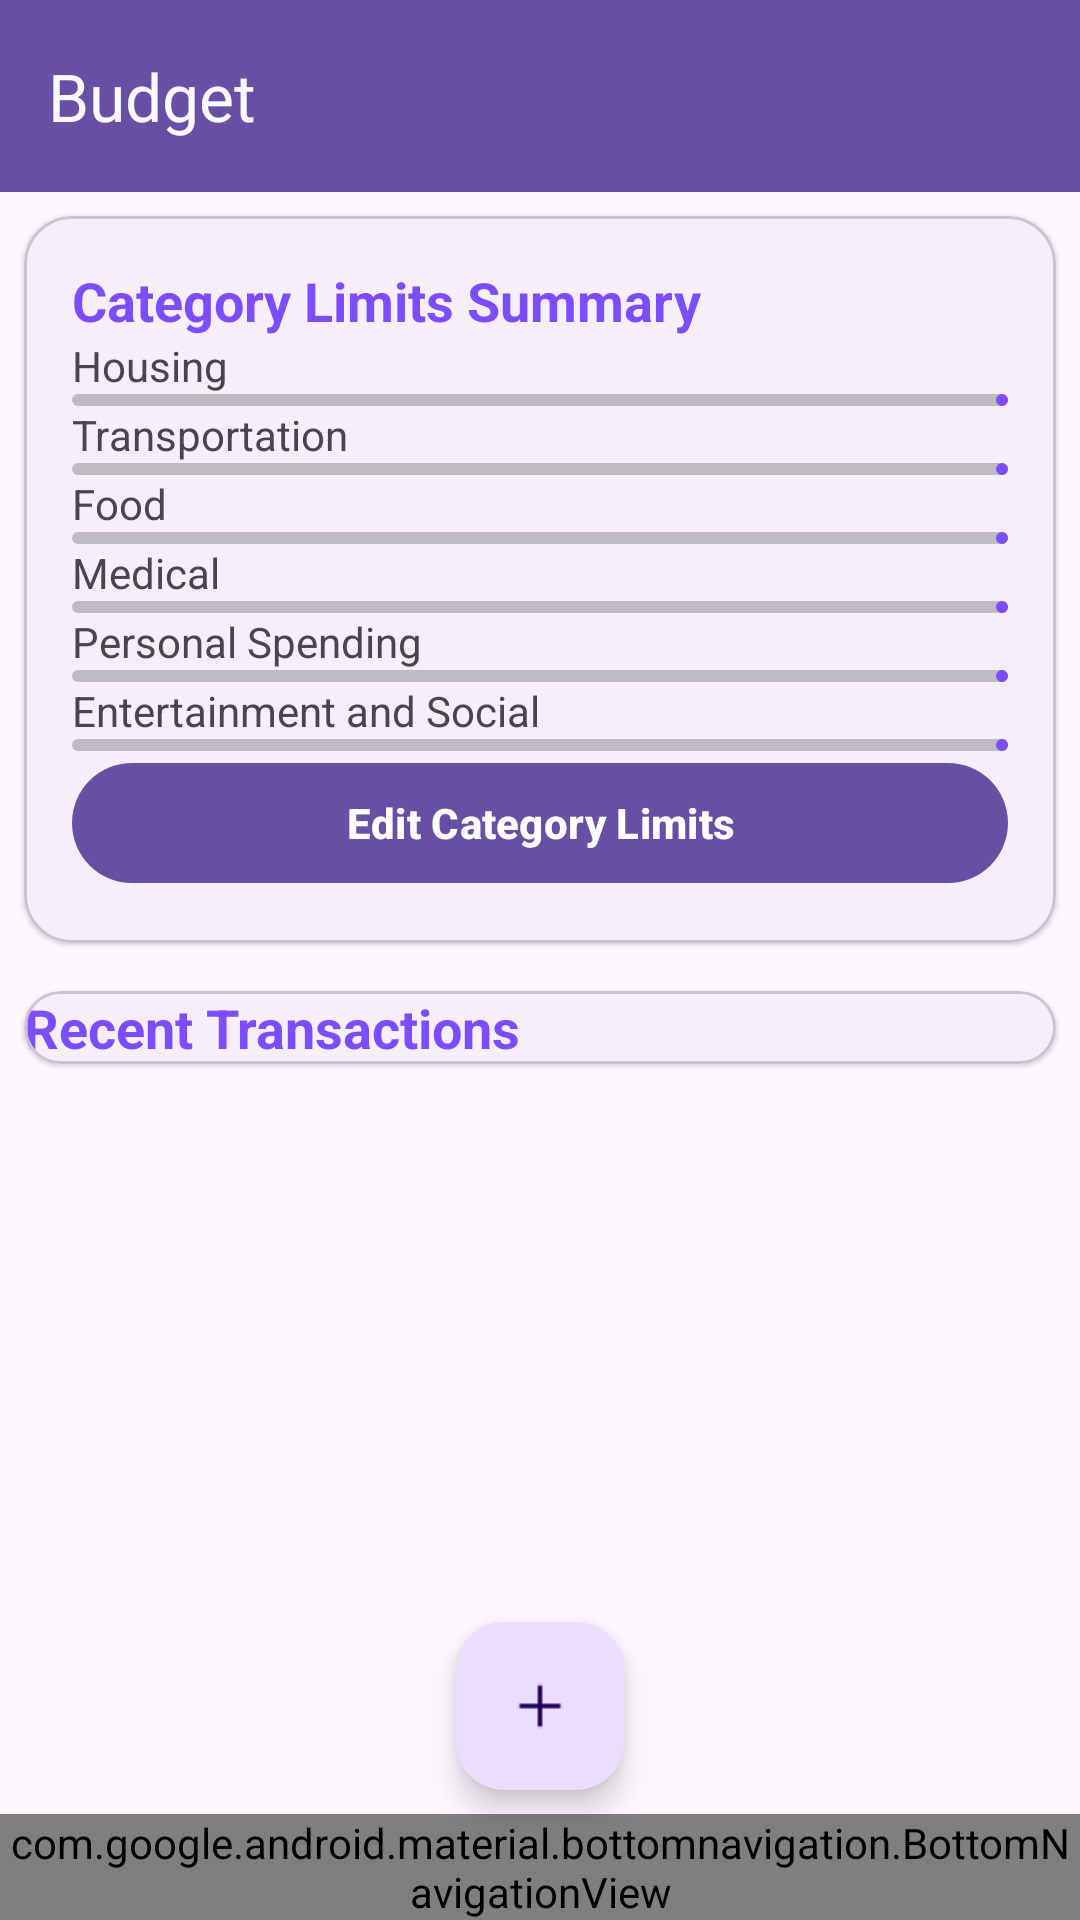

Where to tap for icons on this 1080x1920 app screen, as [x,y]:
Add Transaction: [540,1706]
